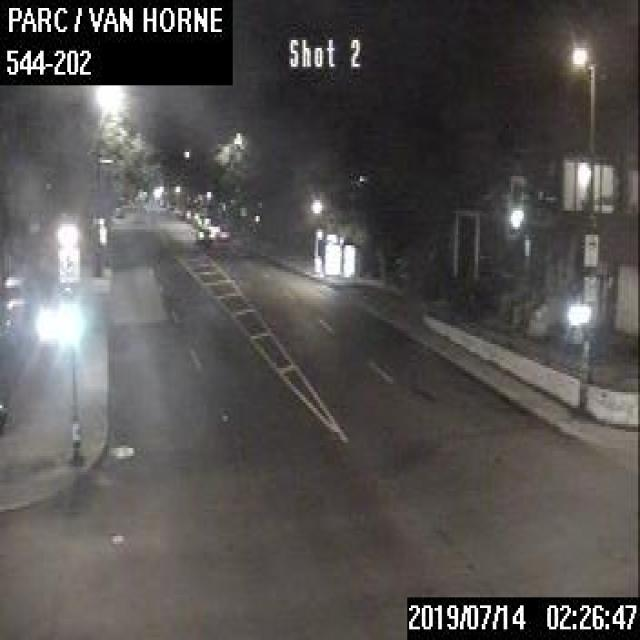vehicle: (196, 224, 212, 240)
